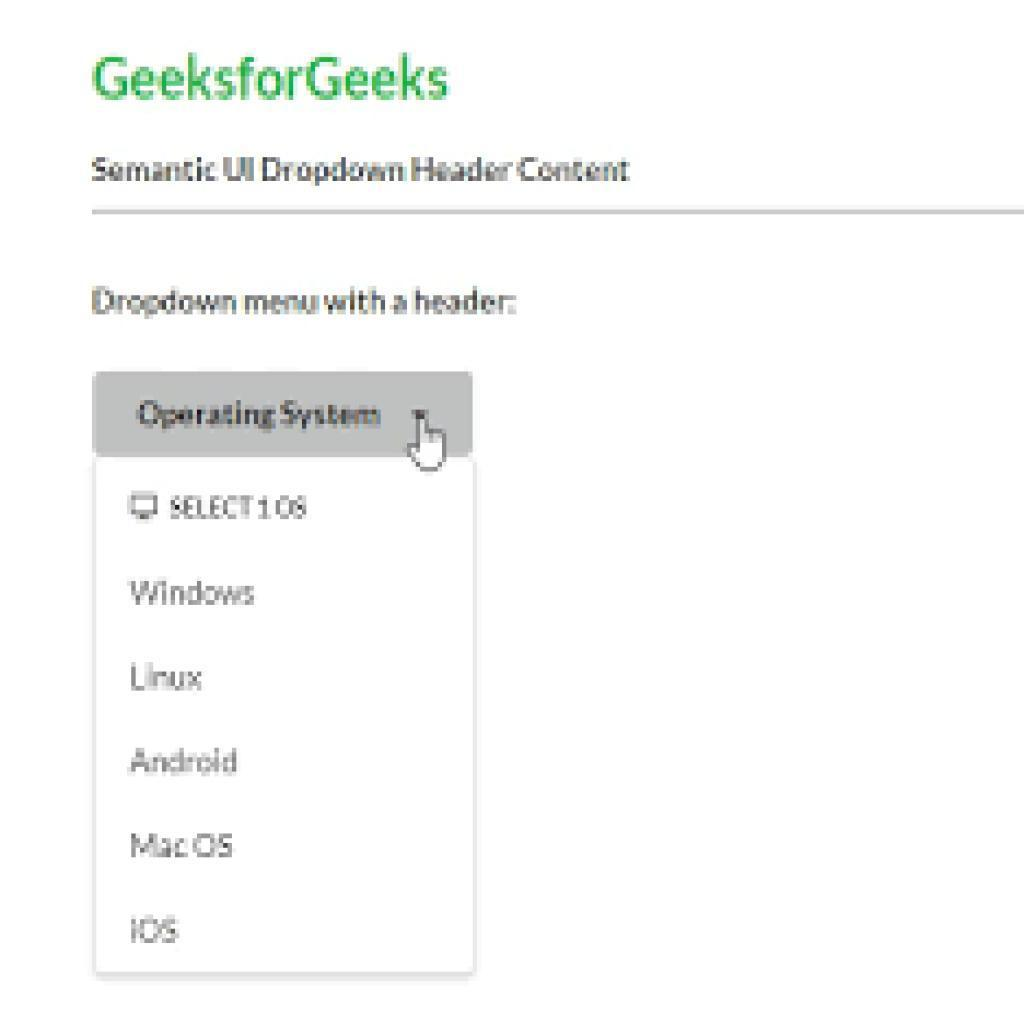dropdown: (90, 370, 477, 458)
